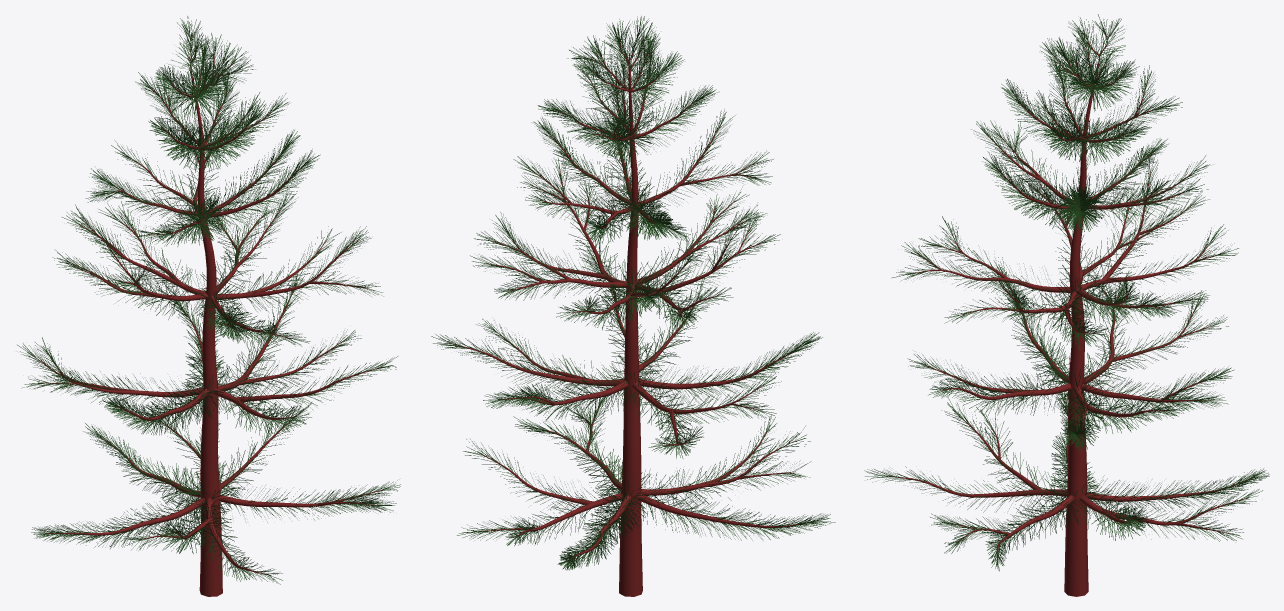
Rendered from Sapin_Proto.fbx.
The picture shows the model from 3 angles, left to right: view 1: azimuth 30°, elevation 25°; view 2: azimuth 150°, elevation 25°; view 3: azimuth 270°, elevation 25°; orthographic projection. The views are drawn at different scales.
Visible parts, largest first — view 1: leaves, tree; view 2: leaves, tree; view 3: leaves, tree.
Part boxes in pixels (left/top/right/bottom): leaves: left=17, top=16, right=400, bottom=584; tree: left=31, top=35, right=383, bottom=596; leaves: left=431, top=16, right=835, bottom=570; tree: left=448, top=36, right=808, bottom=596; leaves: left=864, top=14, right=1269, bottom=571; tree: left=882, top=32, right=1252, bottom=596.
Bounding box in the file's own units: 322 × 511 × 328.
